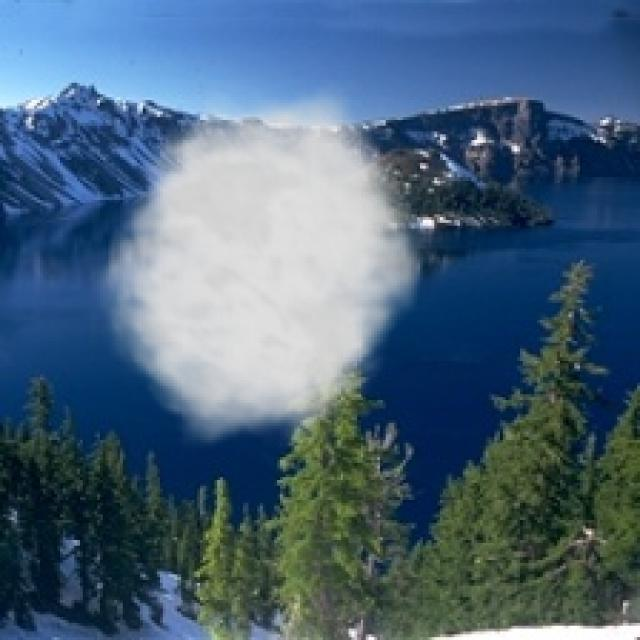Smoke: (89, 80, 432, 449)
